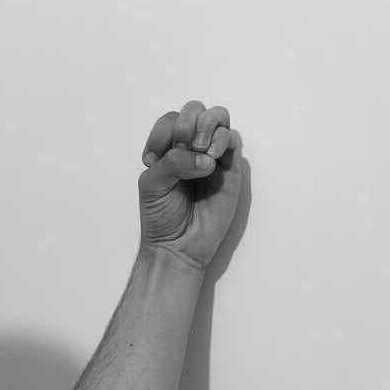E: (137, 99, 242, 269)
